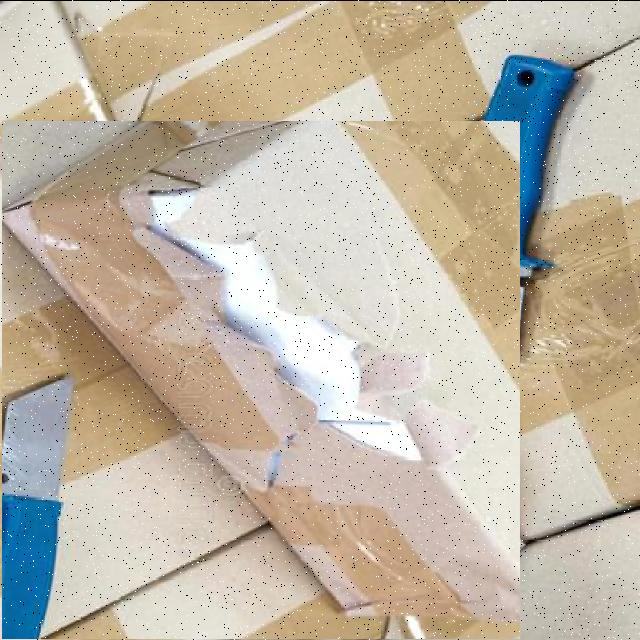defect: (2, 120, 520, 638)
